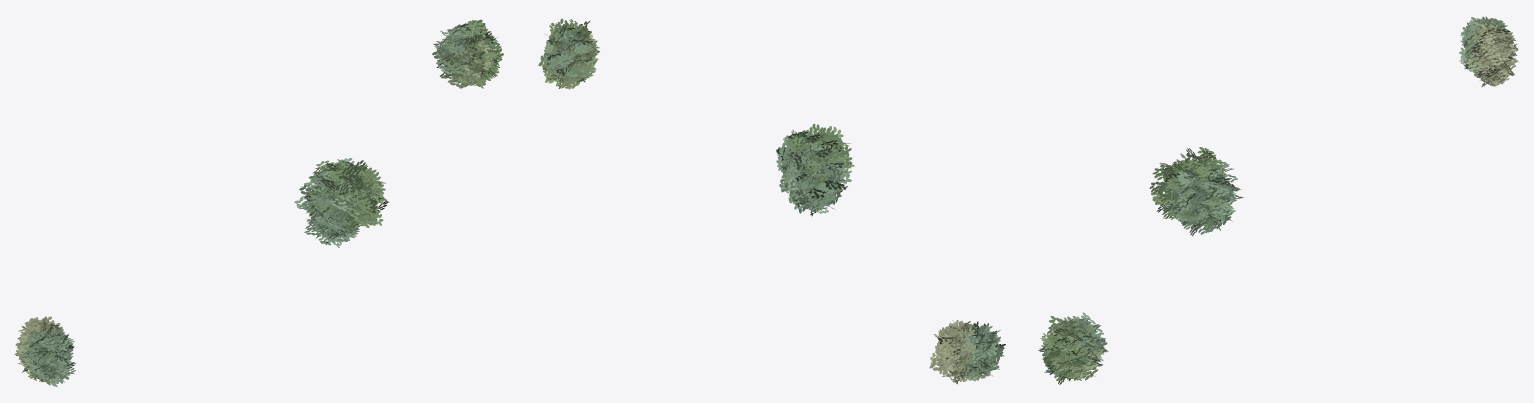
The model's file is campus-tree-4_-1-near.glb.
3 views of the same model, side by side, from view 1: azimuth 90°, elevation 25°; view 2: azimuth 150°, elevation 25°; view 3: azimuth 270°, elevation 25° (orthographic).
Visible parts, largest first — view 1: Campus leaf canopy; view 2: Campus leaf canopy; view 3: Campus leaf canopy.
Boxes of the visible parts, <box> form: Campus leaf canopy: <box>14,19,503,386</box>; Campus leaf canopy: <box>538,18,1005,384</box>; Campus leaf canopy: <box>1038,16,1519,384</box>.
Bounding box in the file's own units: 49.74 × 6.17 × 31.09.
1 material, 1 textured.
